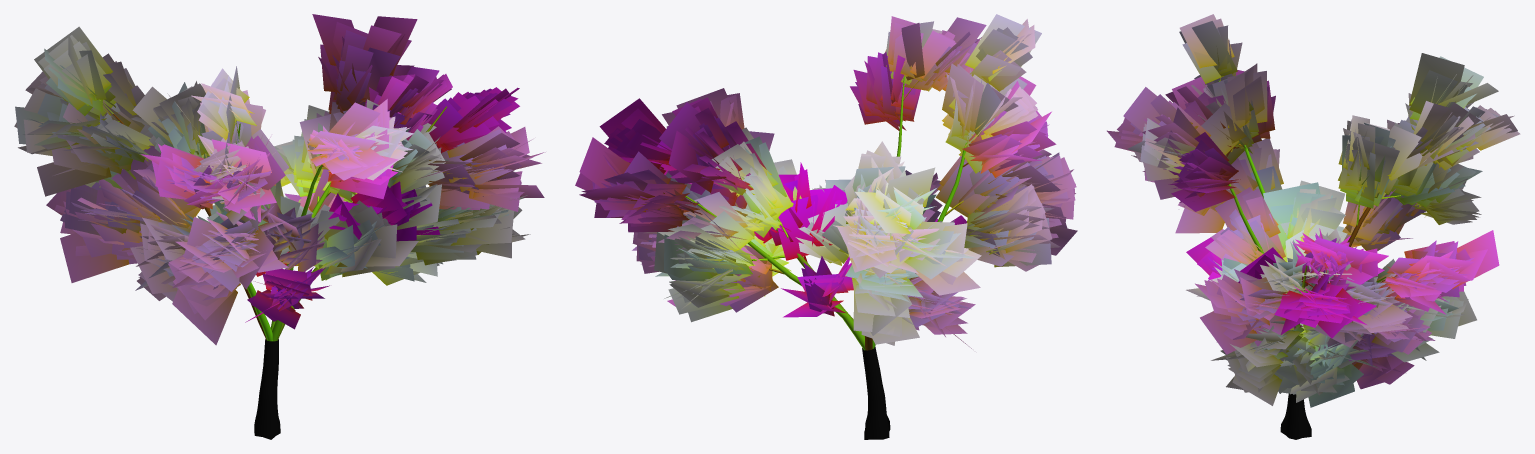
The model's file is tree_zelkova_c.glb.
3 views of the same model, side by side, from view 1: azimuth 30°, elevation 25°; view 2: azimuth 150°, elevation 25°; view 3: azimuth 270°, elevation 25° (orthographic). The views are drawn at different scales.
Parts seen in each view (by area): view 1: tree_zelkova_c; view 2: tree_zelkova_c; view 3: tree_zelkova_c.
Boxes of the visible parts, x1,y1,x2,y2 form: tree_zelkova_c: (14, 14, 545, 439); tree_zelkova_c: (575, 14, 1077, 439); tree_zelkova_c: (1107, 14, 1520, 439).
Size of the model in its own units: 16.31 by 14.71 by 14.53.
